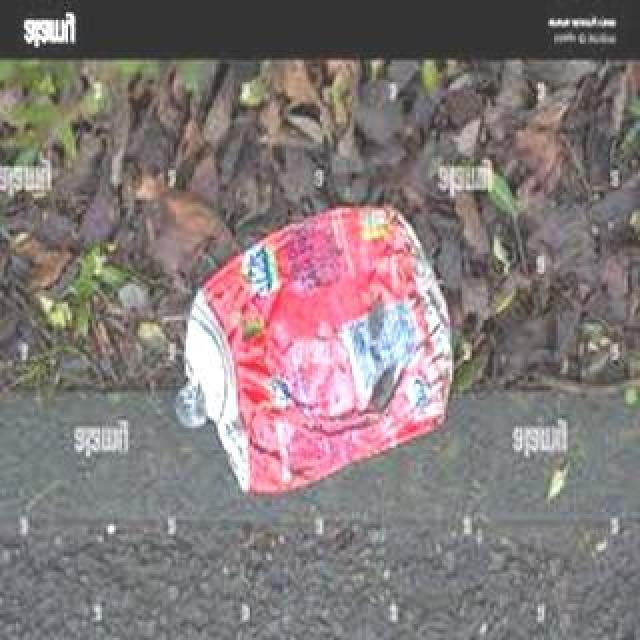Can: (167, 193, 469, 519)
